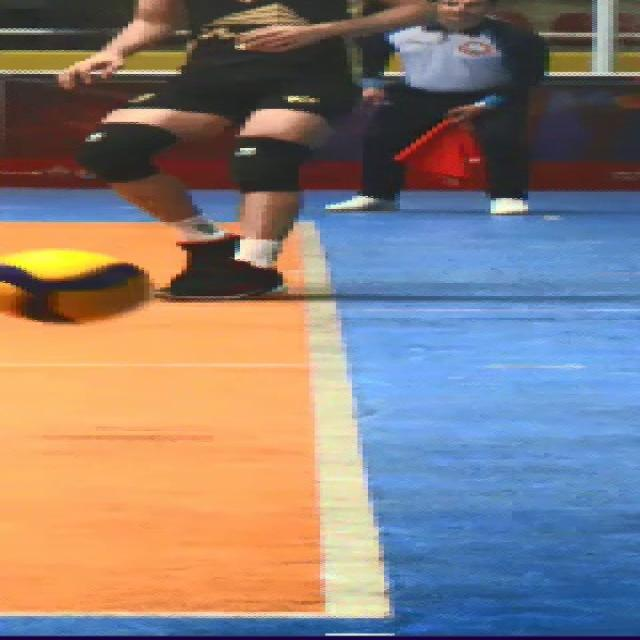Volleyball: (0, 248, 155, 324)
